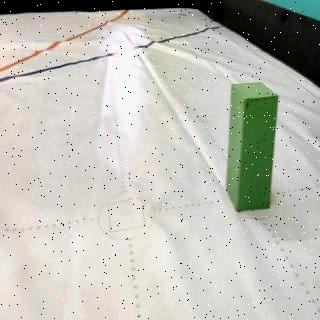greenbox: (226, 80, 280, 214)
